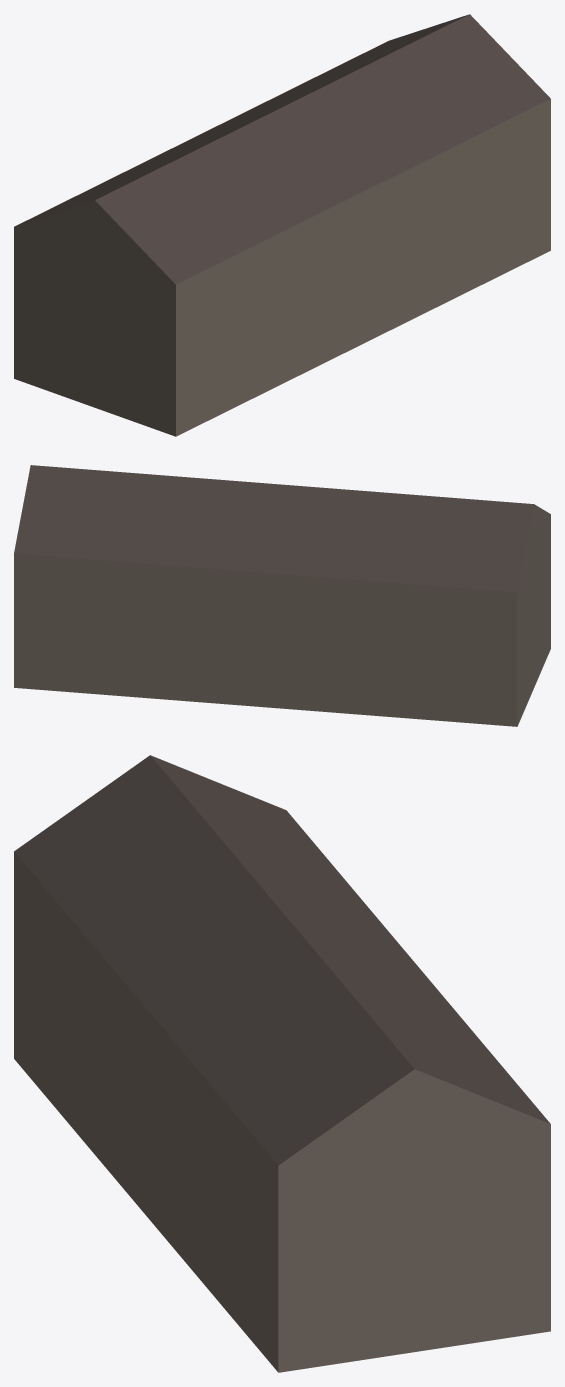
The picture shows the model from 3 angles, top to bottom: view 1: azimuth 30°, elevation 25°; view 2: azimuth 150°, elevation 25°; view 3: azimuth 270°, elevation 25°; orthographic projection. The views are drawn at different scales.
Visible parts, largest first — view 1: HP-w435934416; view 2: HP-w435934416; view 3: HP-w435934416.
Boxes of the visible parts, left/top/right/bottom form: HP-w435934416: left=14, top=14, right=550, bottom=436; HP-w435934416: left=14, top=465, right=550, bottom=726; HP-w435934416: left=14, top=755, right=550, bottom=1372.
Size of the model in its own units: 22.07 by 8.19 by 14.09.
